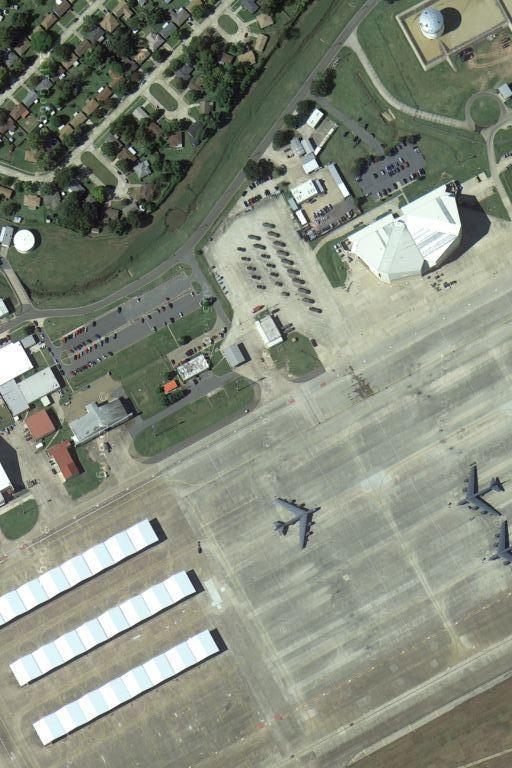B-52: (452, 461, 507, 522), (271, 494, 325, 551)
